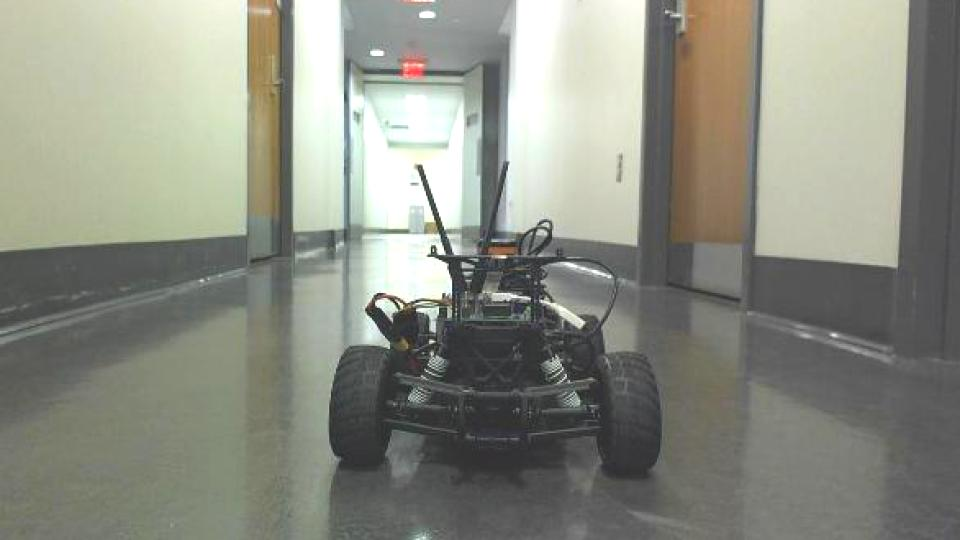car: (326, 158, 667, 479)
